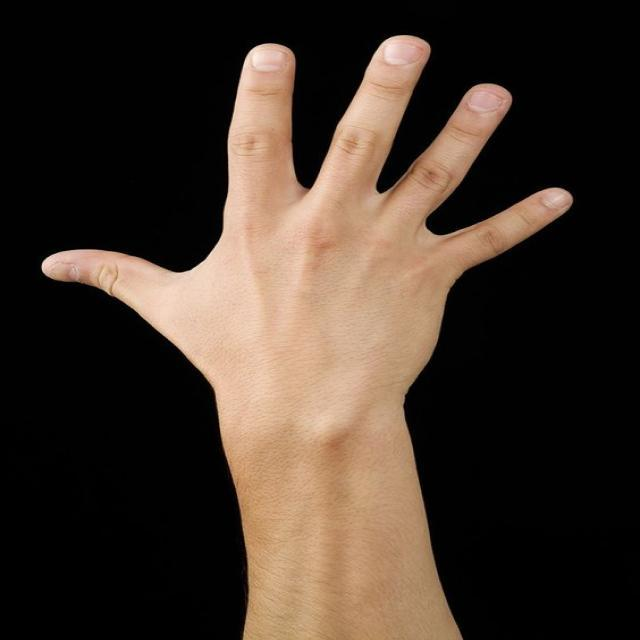Fingernail: (251, 50, 289, 73), (385, 43, 424, 65), (468, 91, 504, 114), (49, 263, 81, 283), (543, 190, 569, 210)
